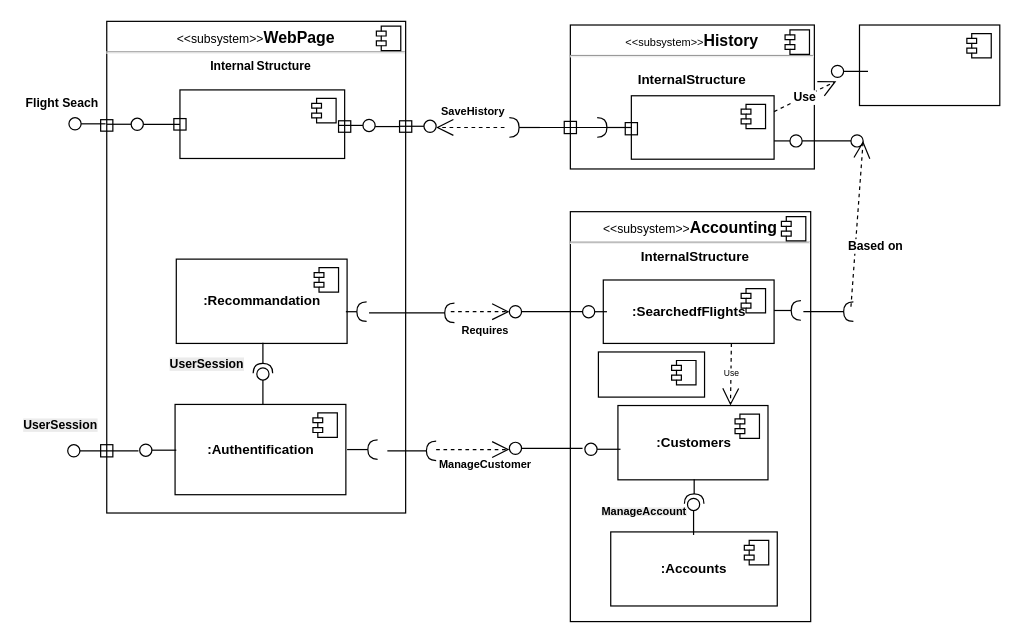
Some shapes in this 1021 by 643 pixel diagram are drawn without their labels. Here are the shapes that lost their labels. From the top down, the centre of each, then its label:
At point 929,65: "Database".
At point 262,123: ":SeachEngine".
At point 702,127: ":History".
At point 651,374: ": Group".
